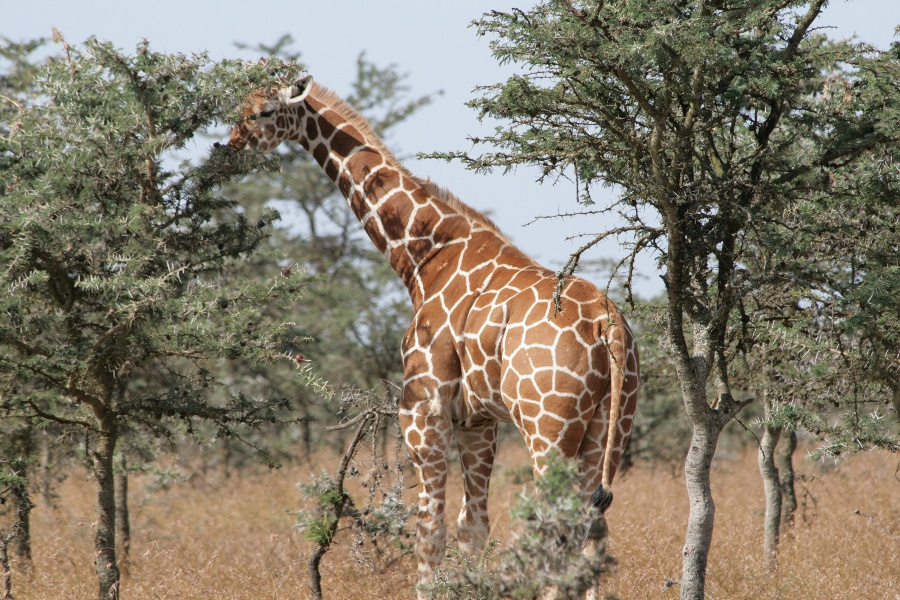giraffe: (208, 56, 647, 598)
